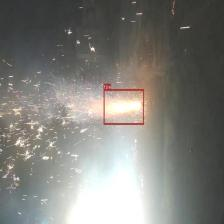fire: (104, 89, 144, 124)
